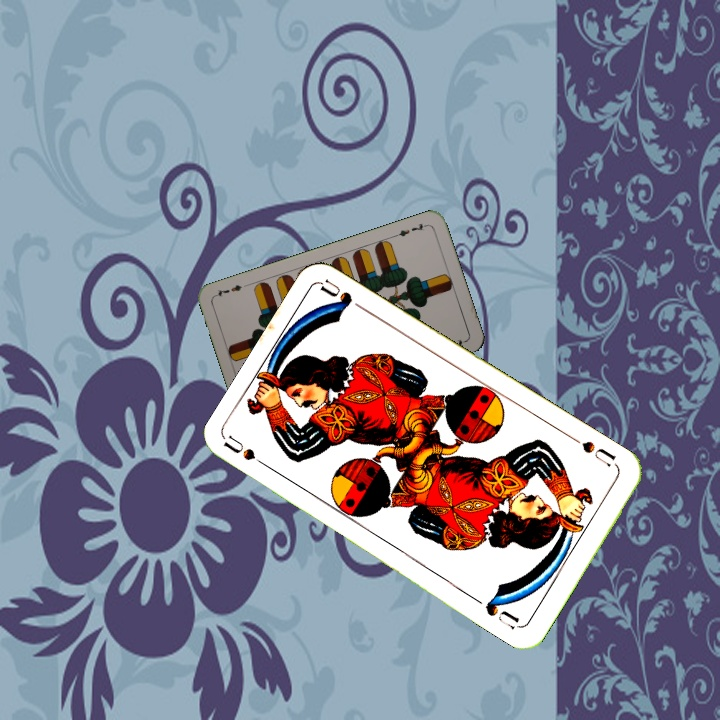E7: (391, 219, 430, 239)
SU: (221, 432, 277, 474), (567, 433, 619, 470)
